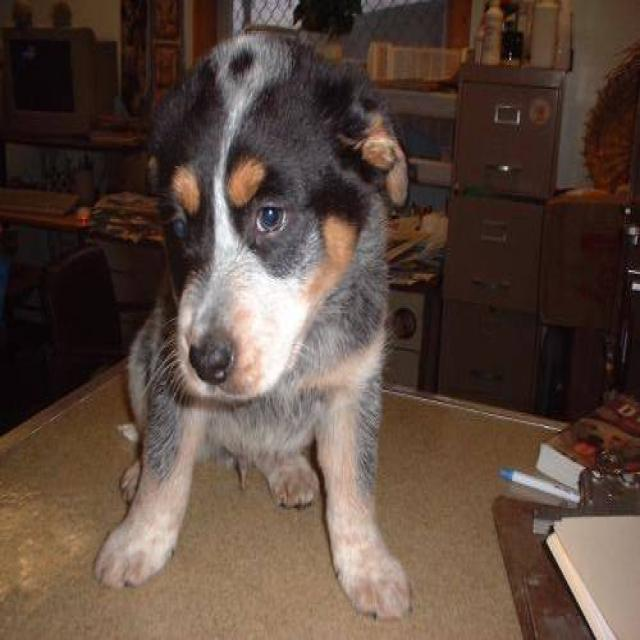Dog: (138, 24, 400, 406)
